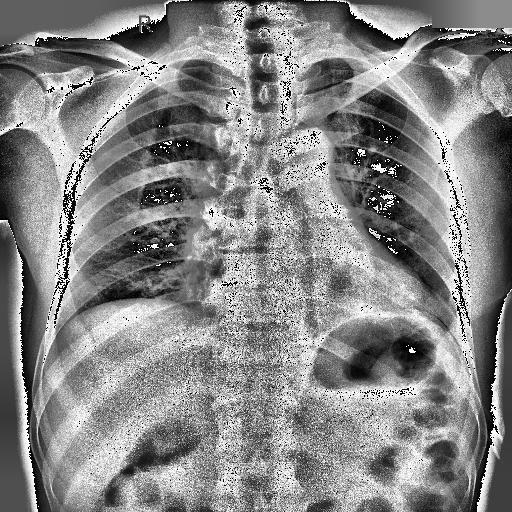0- Aortic enlargement: (268, 122, 334, 186), (278, 129, 334, 184)
3- Cardiomegaly: (193, 260, 436, 326), (202, 262, 439, 324), (204, 264, 434, 326)
